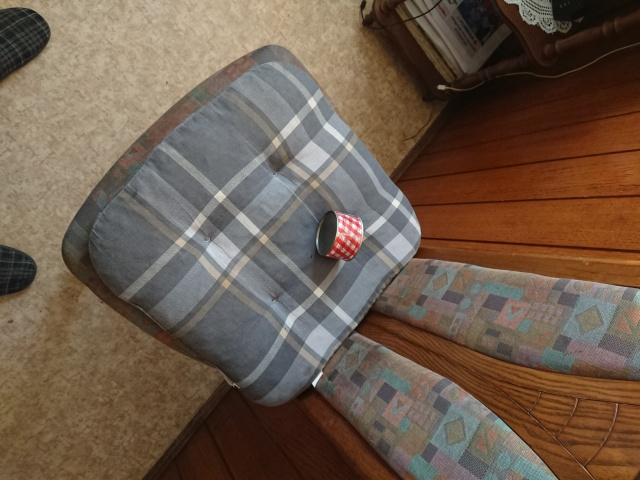Podravka Luncheon Meat 150g: (313, 208, 365, 263)
